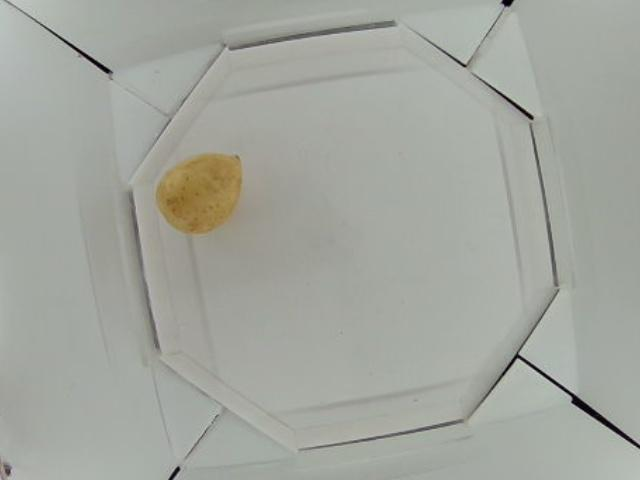Potato: (155, 152, 242, 236)
